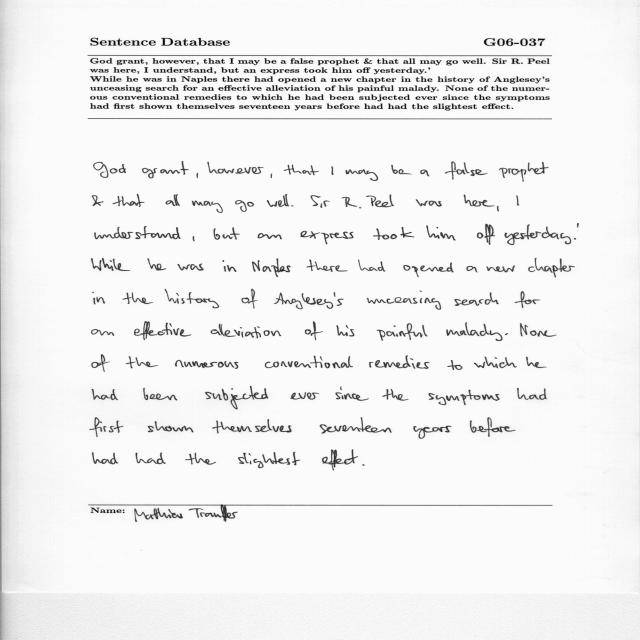word: (205, 386, 269, 410), (505, 224, 572, 245), (367, 291, 441, 310), (274, 292, 344, 309), (320, 418, 392, 434), (265, 356, 353, 369), (212, 419, 292, 433), (95, 226, 181, 239), (446, 322, 503, 341), (428, 390, 500, 405), (211, 324, 281, 339), (165, 289, 219, 308), (134, 322, 191, 340), (238, 452, 300, 468), (499, 162, 549, 181), (528, 258, 575, 278), (377, 323, 428, 341), (470, 417, 515, 437), (369, 355, 430, 369), (445, 161, 488, 180), (142, 162, 189, 179), (403, 263, 454, 278), (322, 450, 358, 471), (252, 259, 291, 278), (301, 231, 354, 244), (207, 162, 264, 174), (90, 417, 124, 437), (454, 292, 499, 306), (175, 360, 239, 369), (373, 227, 414, 240), (307, 259, 348, 272), (93, 162, 126, 178), (520, 323, 557, 337), (335, 386, 369, 401), (148, 422, 194, 433), (92, 258, 130, 271), (414, 426, 452, 439), (474, 357, 517, 368), (426, 226, 456, 241), (143, 388, 177, 401), (125, 356, 158, 369), (515, 291, 540, 308), (113, 194, 145, 207), (192, 200, 223, 213), (464, 194, 495, 207), (283, 165, 319, 176), (346, 169, 379, 181), (477, 224, 495, 245), (185, 453, 216, 465), (366, 195, 394, 208), (123, 292, 153, 304), (517, 388, 547, 400), (305, 322, 323, 341), (241, 289, 258, 309), (214, 227, 240, 240), (136, 453, 166, 464), (358, 260, 385, 272), (382, 389, 409, 401), (93, 453, 119, 465), (92, 355, 110, 372), (267, 194, 289, 207), (92, 389, 118, 400), (311, 195, 330, 208), (147, 258, 166, 271), (291, 392, 320, 400), (526, 357, 547, 368), (235, 200, 254, 212), (342, 197, 362, 208), (337, 325, 355, 337), (486, 266, 515, 273), (391, 165, 412, 174), (177, 264, 204, 271), (416, 200, 442, 207), (166, 194, 180, 206), (258, 233, 282, 240), (223, 260, 237, 272), (93, 292, 105, 305), (92, 329, 114, 336), (448, 360, 463, 370), (92, 195, 104, 206), (467, 266, 478, 272), (421, 170, 430, 177), (516, 196, 519, 206), (331, 166, 334, 175), (497, 206, 499, 212), (197, 173, 199, 178), (193, 236, 195, 241), (577, 223, 579, 228), (291, 205, 294, 207), (505, 333, 508, 335), (362, 464, 365, 466), (271, 174, 272, 178), (574, 238, 576, 240)
